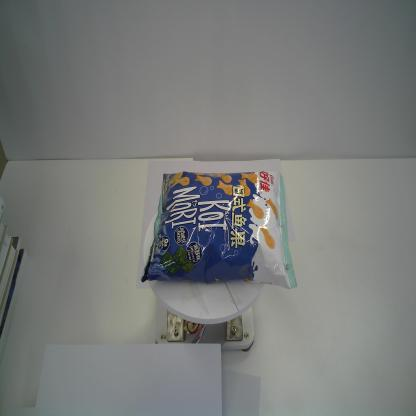Puffed Food: (139, 171, 298, 291)
